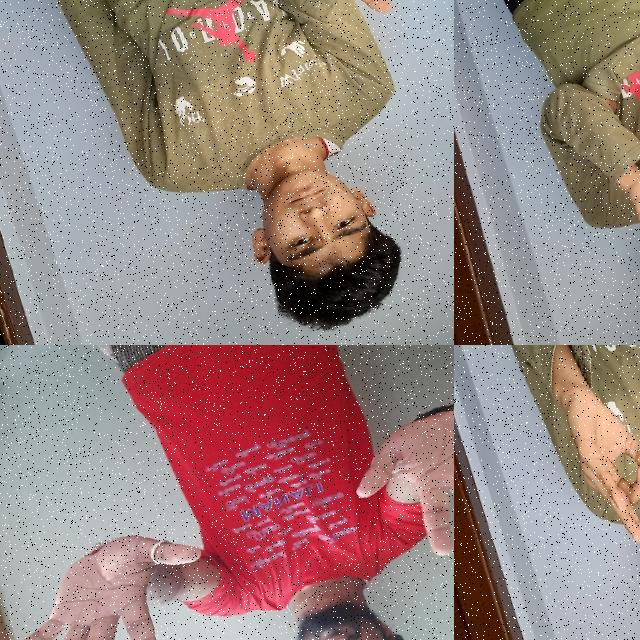Fist Mouth: (588, 103, 640, 345)
Moutza: (0, 499, 249, 640), (333, 358, 454, 599)
Okay: (535, 345, 640, 567)
Thumbs Up: (281, 0, 400, 48)
